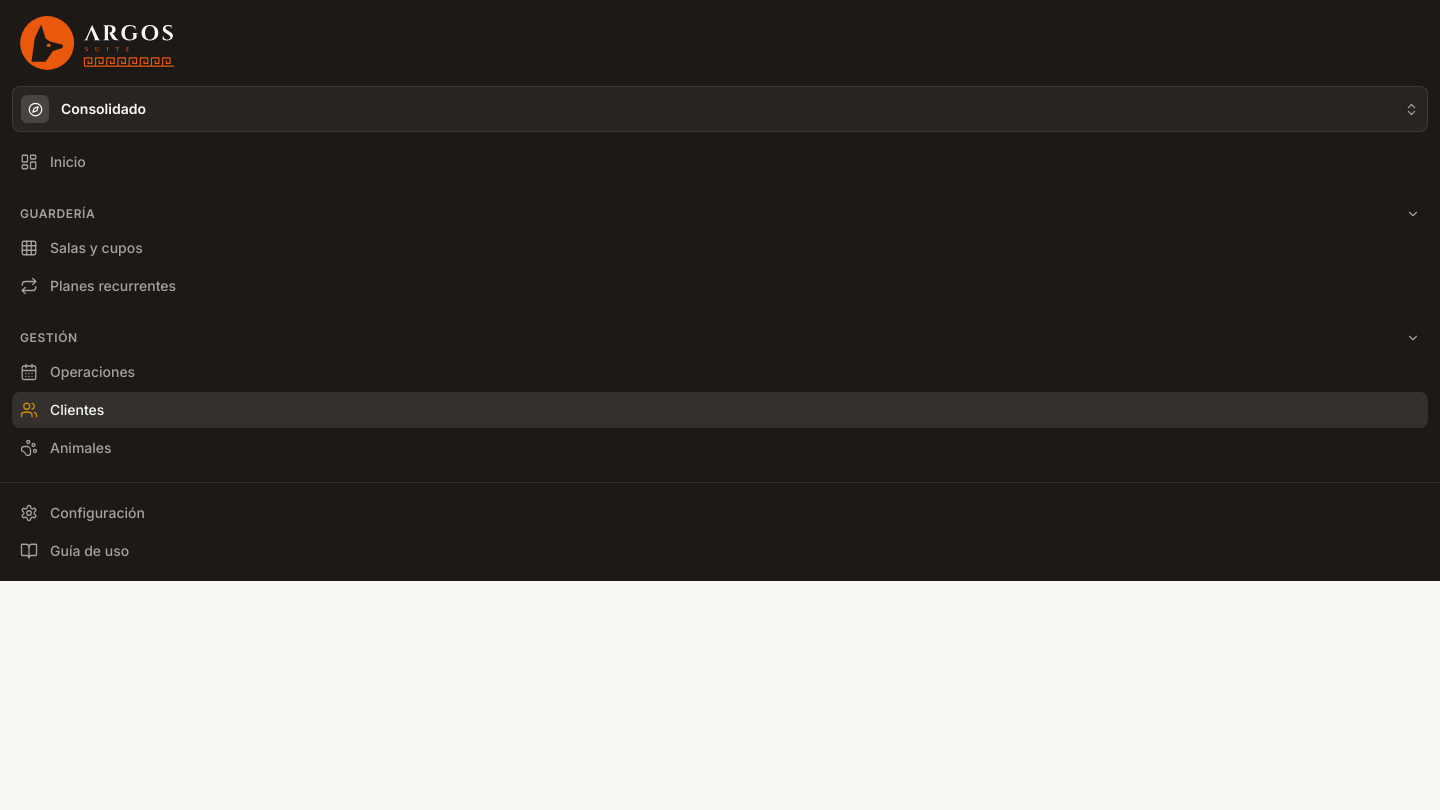
Scenario: navigation gating › keeps the current page in view when its group is folded
Click the button "Gestión".
click(49, 338)  # box left=12, top=324, right=1428, bottom=352
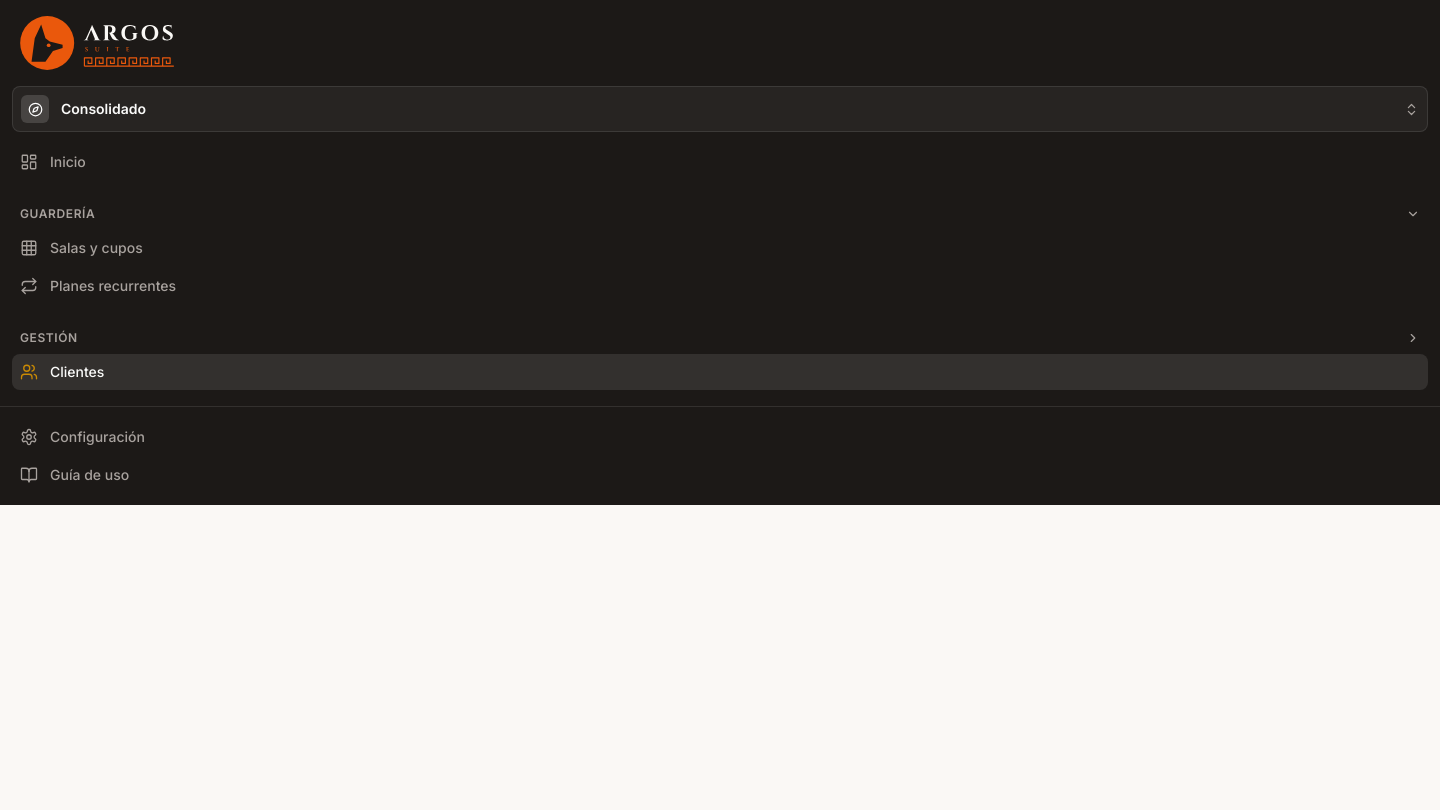
Check: the link "Animales" is gone
